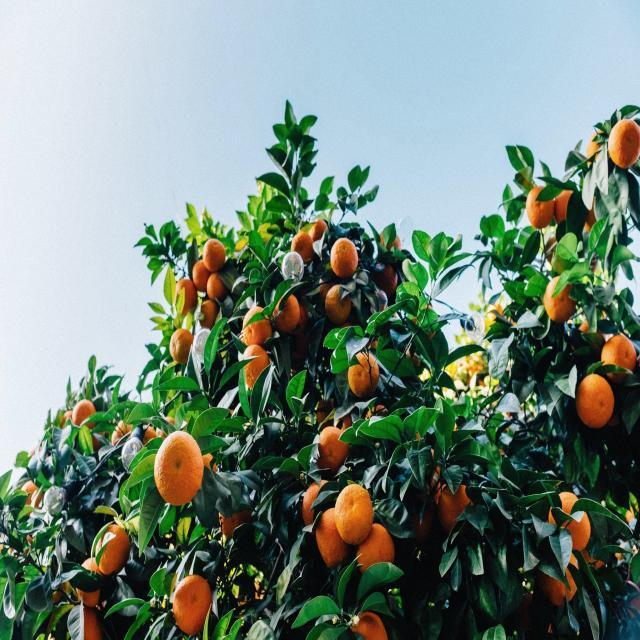Jeruk Sudah Matang: (156, 430, 204, 504), (536, 544, 580, 607), (548, 492, 590, 552), (314, 508, 354, 568), (173, 574, 213, 634), (336, 483, 374, 543), (576, 374, 616, 429), (438, 478, 477, 534), (356, 523, 396, 573), (600, 333, 637, 385), (95, 523, 131, 574), (315, 424, 351, 474), (544, 274, 577, 324), (609, 119, 640, 169), (300, 478, 330, 528), (348, 350, 379, 396), (270, 288, 300, 334), (242, 304, 272, 348), (243, 344, 271, 390), (77, 558, 103, 607), (526, 184, 554, 229), (349, 611, 388, 640), (325, 284, 353, 324), (331, 238, 358, 278), (370, 260, 398, 298), (218, 506, 255, 534), (556, 185, 580, 227), (586, 128, 608, 172), (174, 277, 198, 315), (170, 328, 194, 364), (291, 230, 315, 264), (202, 238, 226, 272), (80, 606, 104, 640), (72, 399, 96, 431), (192, 257, 214, 291), (378, 230, 404, 256), (23, 478, 44, 510), (584, 192, 598, 234), (112, 416, 133, 444), (208, 273, 228, 302), (200, 300, 218, 332), (311, 218, 329, 242), (140, 423, 156, 445)
